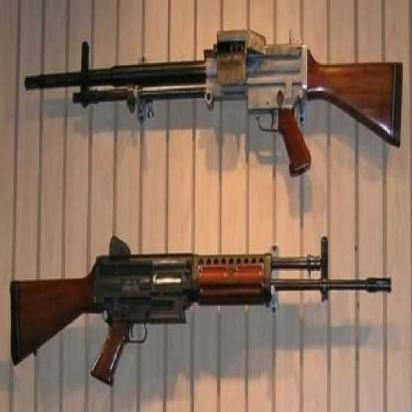Gun: (8, 232, 394, 380), (26, 32, 404, 174)
